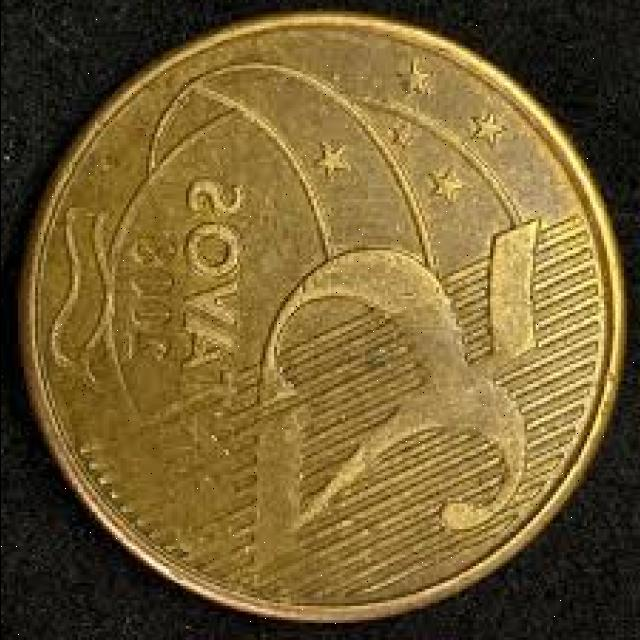25 cent: (41, 29, 617, 602)
